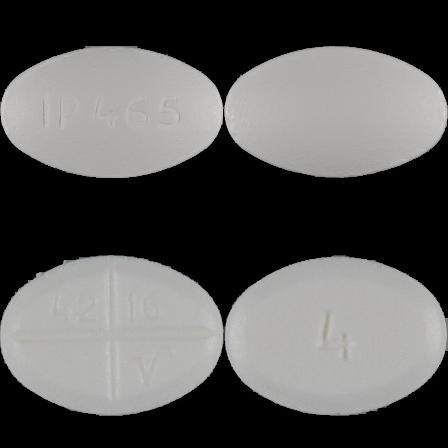55045-1173: (0, 0, 224, 224)
